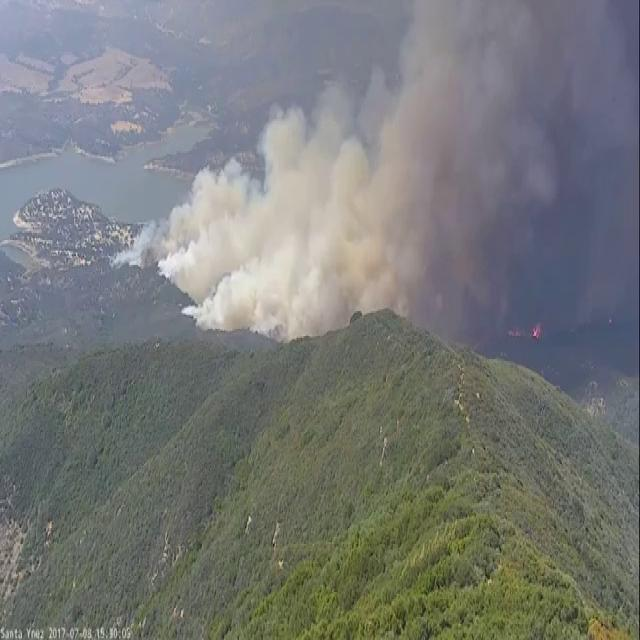Fire: (531, 322, 543, 336)
Smoke: (168, 253, 218, 308), (113, 220, 155, 270), (158, 244, 194, 279), (249, 310, 284, 336), (190, 164, 215, 192), (156, 217, 173, 238), (506, 324, 525, 340)
